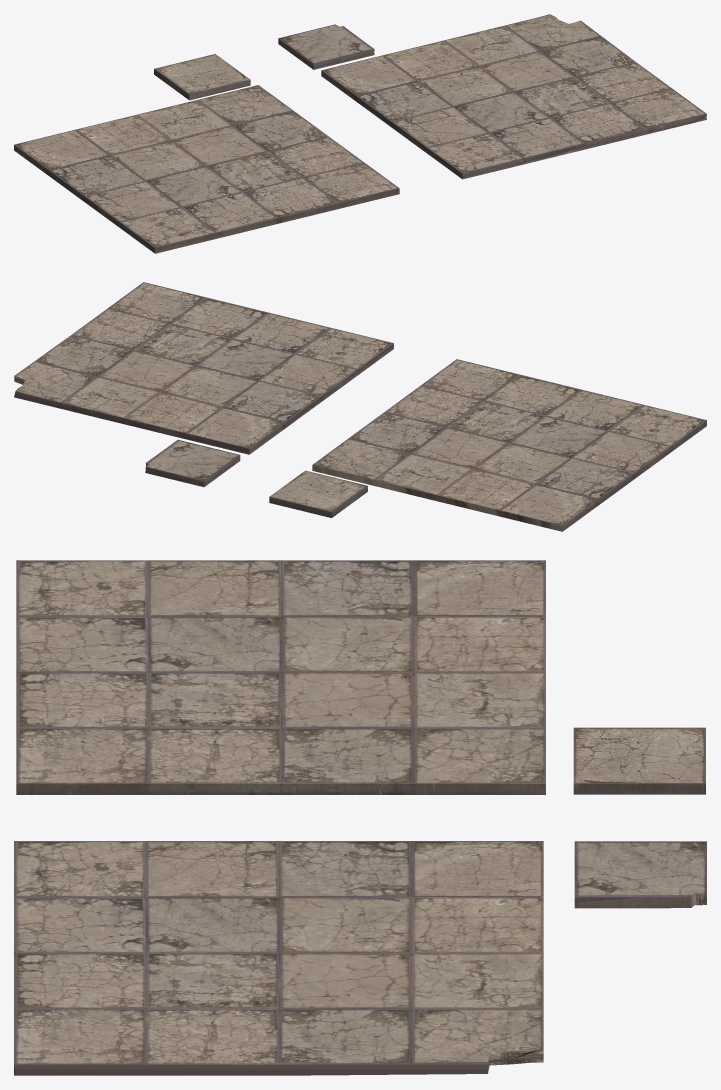
File: plates.fbx
The picture shows the model from 3 angles, top to bottom: view 1: azimuth 30°, elevation 25°; view 2: azimuth 150°, elevation 25°; view 3: azimuth 270°, elevation 25°; orthographic projection. The views are drawn at different scales.
Parts seen in each view (by area): view 1: Cube_001, Cube_002, Cube, Cube_003; view 2: Cube_001, Cube_002, Cube, Cube_003; view 3: Cube_001, Cube_002, Cube, Cube_003.
Boxes of the visible parts, x1,y1,x2,y2 form: Cube_001: (14,85,399,253); Cube_002: (321,14,706,179); Cube: (154,54,250,100); Cube_003: (278,24,374,69); Cube_001: (312,359,706,531); Cube_002: (14,282,393,454); Cube: (269,470,367,517); Cube_003: (145,439,240,486); Cube_001: (16,560,545,794); Cube_002: (14,841,543,1075); Cube: (573,727,705,794); Cube_003: (574,841,706,908).
Size of the model in its own units: 9.02 by 0.1161 by 5.23.
